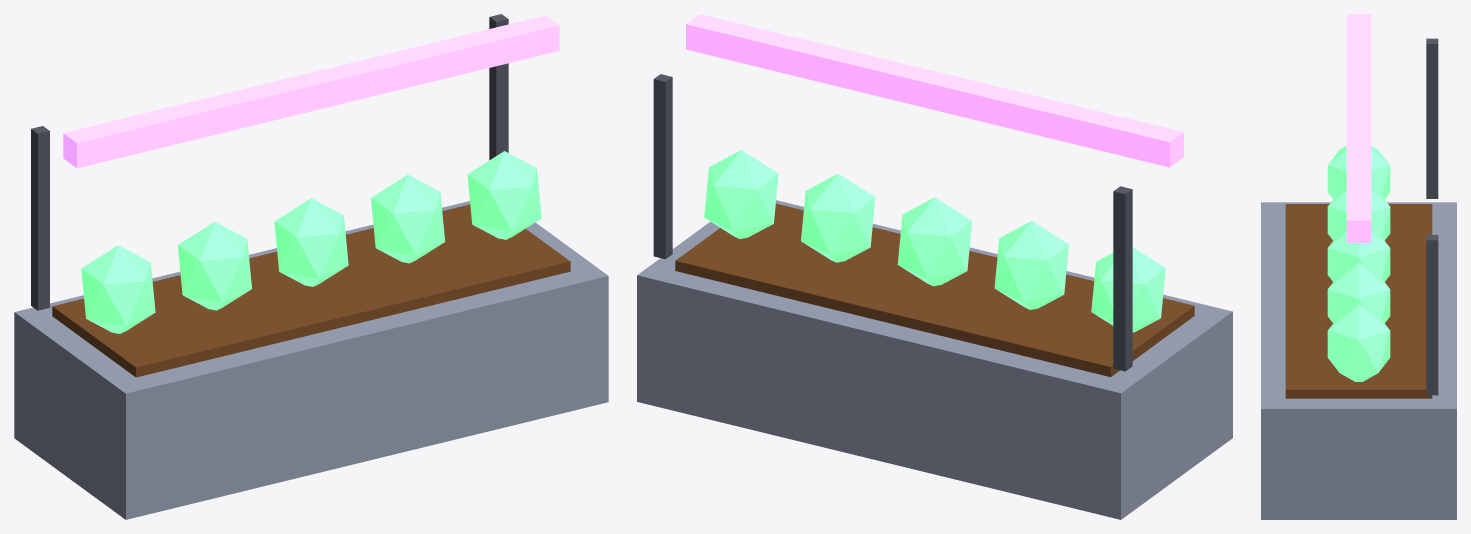
The model's file is stationpack-hydroponic-planter.glb.
The picture shows the model from 3 angles, left to right: view 1: azimuth 30°, elevation 25°; view 2: azimuth 150°, elevation 25°; view 3: azimuth 270°, elevation 25°; orthographic projection. The views are drawn at different scales.
Visible parts, largest first — view 1: hydroponic_planter; view 2: hydroponic_planter; view 3: hydroponic_planter.
Part boxes in pixels (<box>): hydroponic_planter: <box>14,14,608,519</box>; hydroponic_planter: <box>637,14,1232,519</box>; hydroponic_planter: <box>1261,14,1456,519</box>.
Bounding box in the file's own units: 2 × 1.35 × 0.8.
